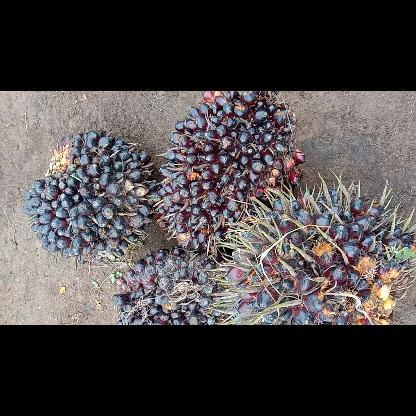TBS mentah: (219, 183, 415, 323), (154, 91, 310, 255), (20, 126, 162, 268), (111, 242, 239, 324)
